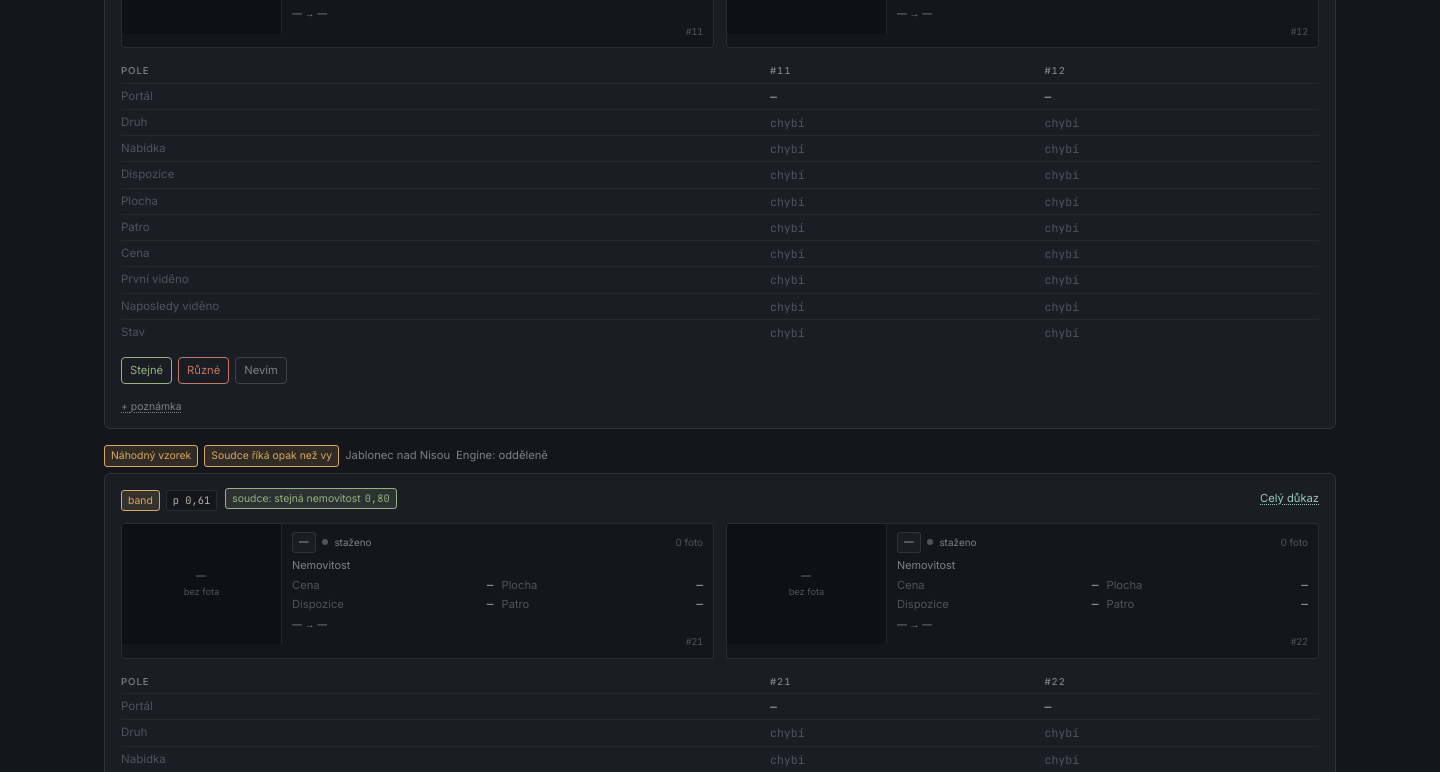
<AutodedupJudge> blind by default › opens a row in place the moment the operator answers it
(page scrolled)
Click the button "Stejné" at [147, 371], box 121,357 -> 172,384
(page scrolled)
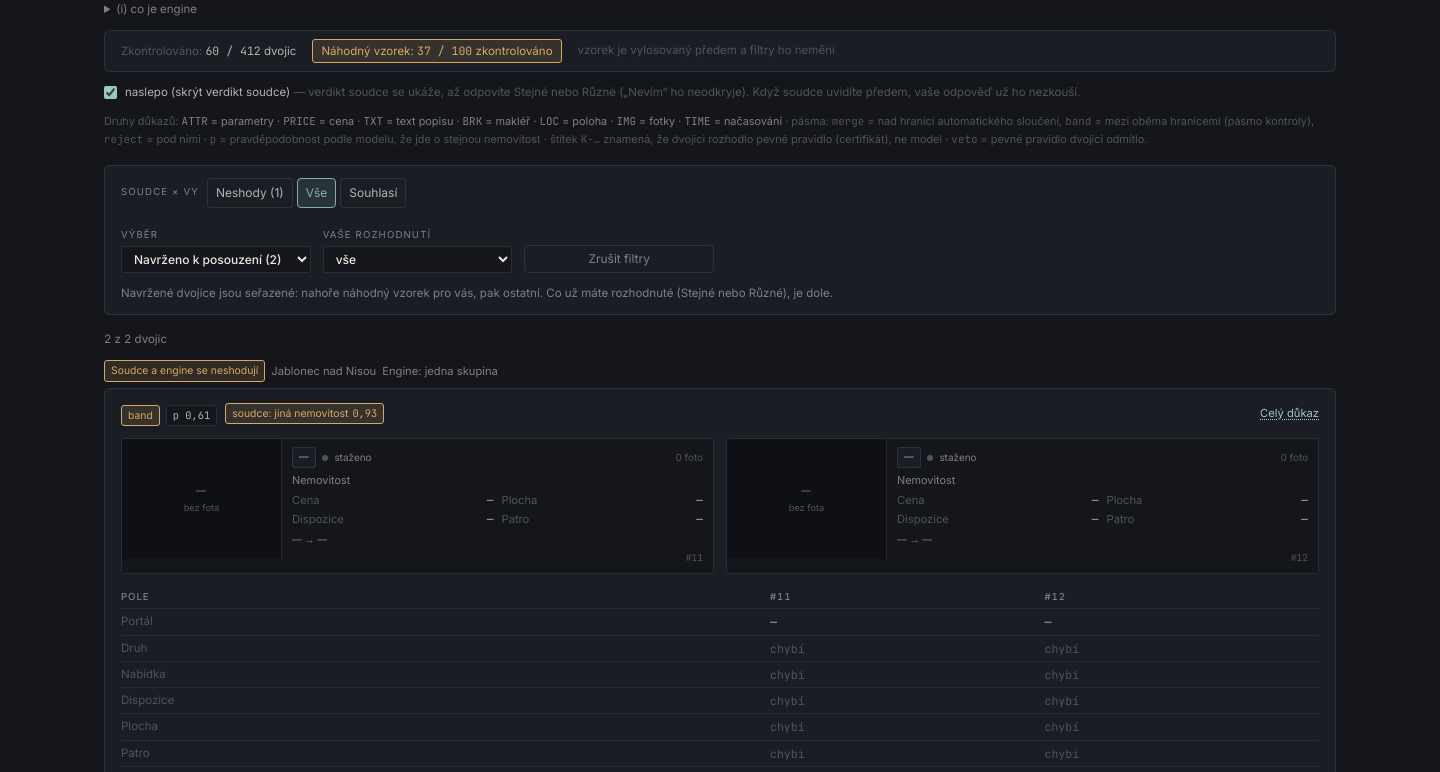
Expected: the text "soudce: jiná nemovitost 0,93" is shown, 225,403 -> 384,424
Expected: the text "Soudce a engine se neshodují" is shown, 104,360 -> 265,382
